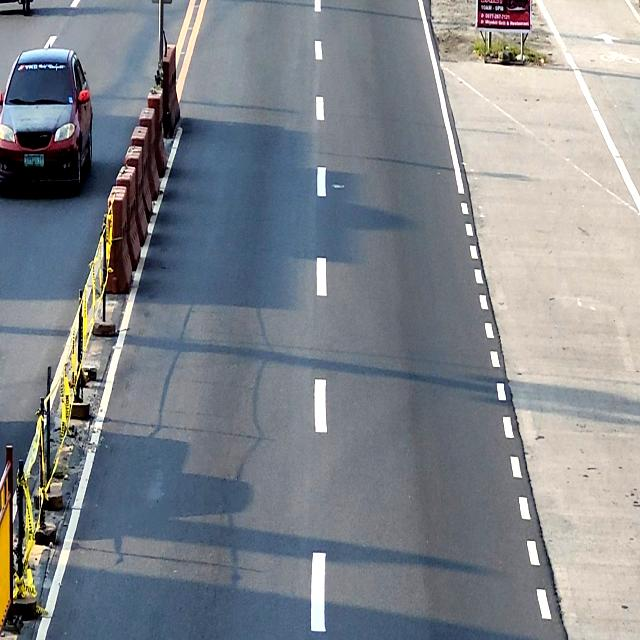Car: (0, 48, 93, 199)
License-Plate: (24, 154, 44, 166)
